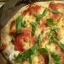pizza: (1, 6, 64, 64)
